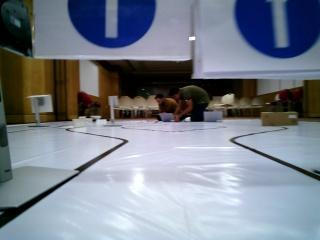straight: (35, 1, 181, 57), (202, 5, 316, 74)
